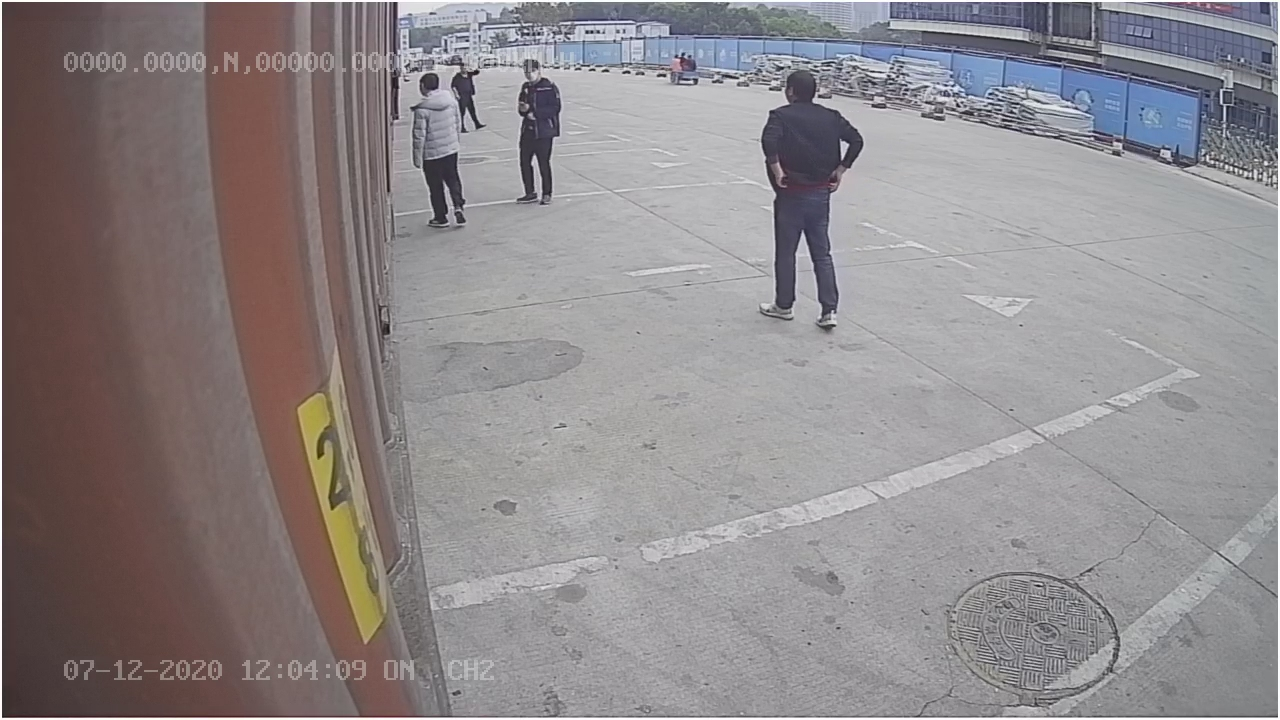person: (757, 72, 866, 336)
